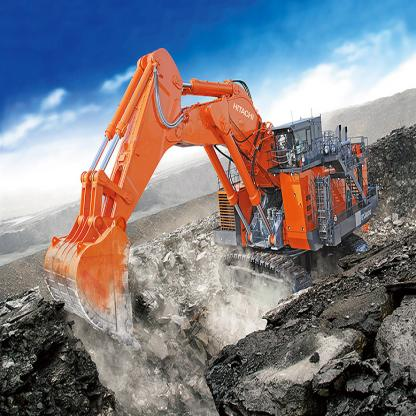excavator: (34, 32, 384, 350)
